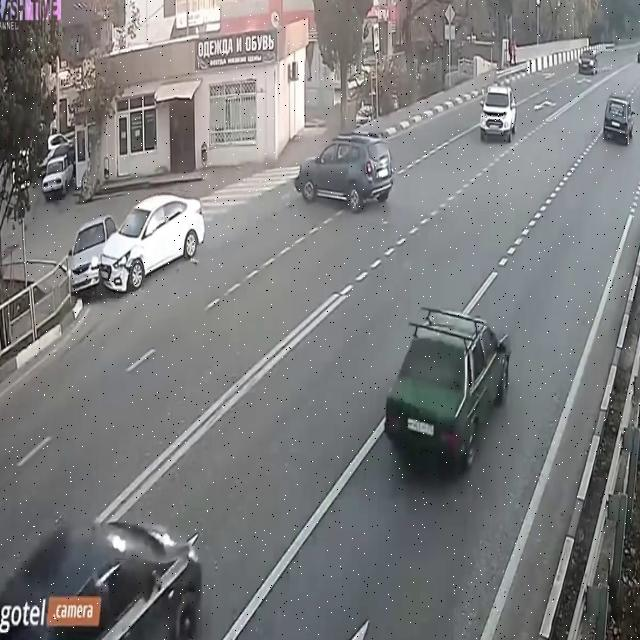accident: (56, 183, 210, 303)
